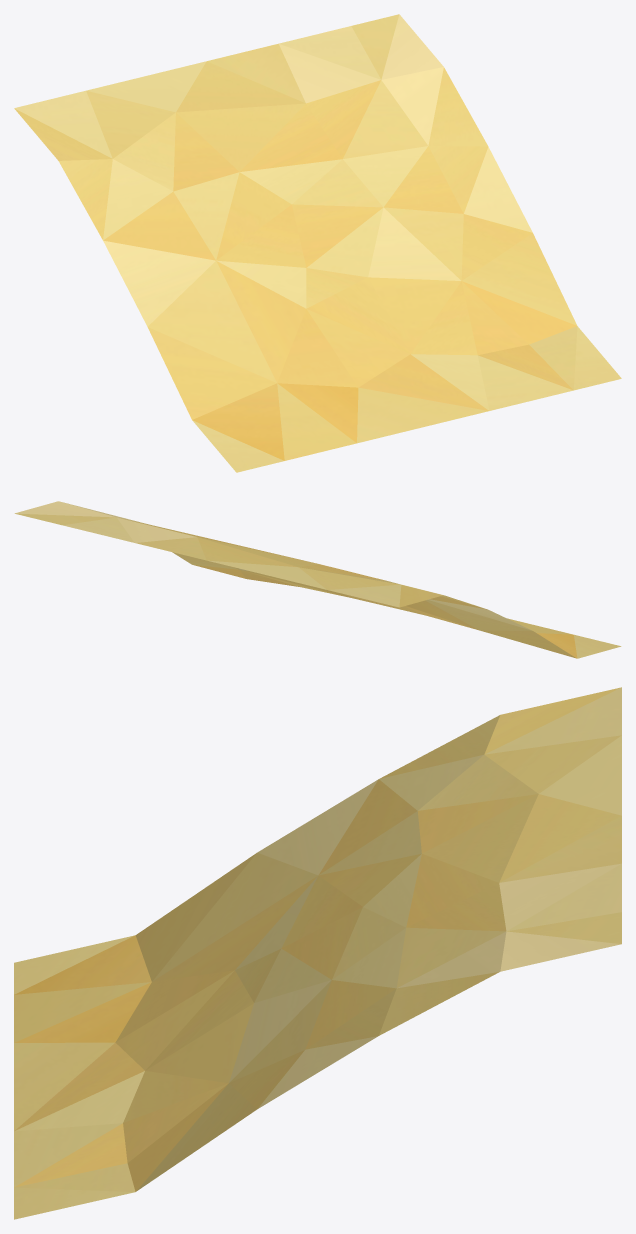
Rendered from GL-Terrain-part-07-LOD2.fbx.
3 renders of one model, top to bottom at view 1: azimuth 30°, elevation 25°; view 2: azimuth 150°, elevation 25°; view 3: azimuth 270°, elevation 25°, orthographic. The views are drawn at different scales.
Parts seen in each view (by area): view 1: GL_Terrain_part_07; view 2: GL_Terrain_part_07; view 3: GL_Terrain_part_07.
Part boxes in pixels (x1,y1,x2,y2): GL_Terrain_part_07: (14, 14, 621, 472); GL_Terrain_part_07: (14, 501, 621, 658); GL_Terrain_part_07: (14, 687, 621, 1219).
Size of the model in its own units: 6 by 3 by 6.
